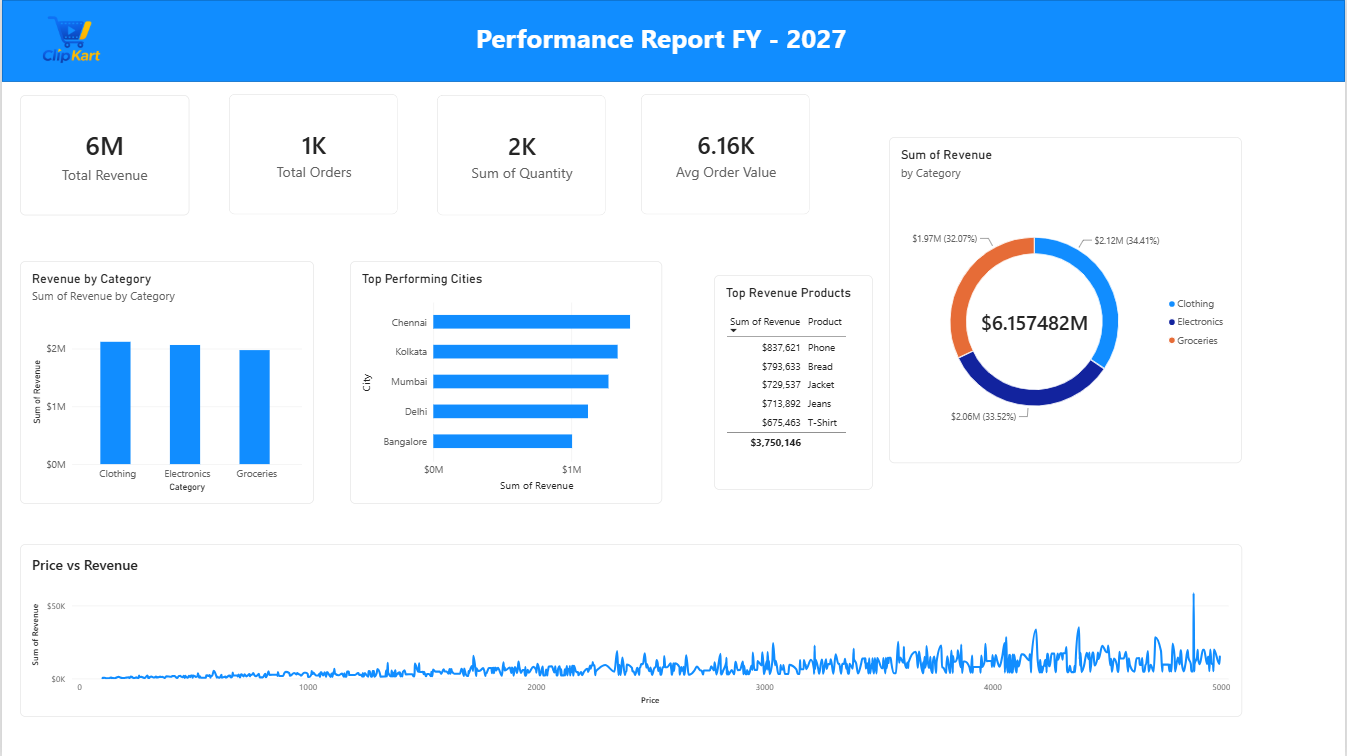

This screenshot's page, from the dashboard's own definition file:
{"tool":"powerbi","page":{"name":"Page 1","canvas":[1920,1080],"ordinal":0},"visuals":[{"type":"shape","box":[0,0,1920,116.7],"z":0},{"type":"image","box":[0,0,196.9,116.7],"z":1000},{"type":"textbox","box":[677.7,27.9,564.5,62.7],"z":2000},{"type":"card","fields":{"Values":["Sum(1780981841717-clipkart_ecommerce_data.Revenue)"]},"box":[26.3,135.5,242.1,172.4],"z":3000},{"type":"lineChart","title":"Price vs Revenue","fields":{"Category":["1780981841717-clipkart_ecommerce_data.Price"],"Y":["Sum(1780981841717-clipkart_ecommerce_data.Revenue)"]},"box":[25,776.7,1745.7,247.1],"z":4000},{"type":"columnChart","title":"Revenue by Category","fields":{"Category":["1780981841717-clipkart_ecommerce_data.Category"],"Y":["Sum(1780981841717-clipkart_ecommerce_data.Revenue)"]},"box":[25.7,372.9,420,347.1],"z":5000},{"type":"tableEx","title":"Top Revenue Products","fields":{"Values":["Sum(1780981841717-clipkart_ecommerce_data.Revenue)","1780981841717-clipkart_ecommerce_data.Product"]},"box":[1016.7,393.3,227.1,307.1],"z":6000},{"type":"cardVisual","fields":{"Data":["CountNonNull(1780981841717-clipkart_ecommerce_data.Revenue)"]},"box":[324.3,134.3,241.4,172.9],"z":7000},{"type":"cardVisual","fields":{"Data":["Sum(1780981841717-clipkart_ecommerce_data.Quantity)"]},"box":[621.4,135.7,241.4,172.9],"z":8000},{"type":"clusteredBarChart","title":"Top Performing Cities","fields":{"Category":["1780981841717-clipkart_ecommerce_data.City"],"Y":["Sum(1780981841717-clipkart_ecommerce_data.Revenue)"]},"box":[496.7,373.3,445.7,347.1],"z":9000},{"type":"cardVisual","fields":{"Data":["1780981841717-clipkart_ecommerce_data.Avg Order Value"]},"box":[912.9,134.3,241.4,172.9],"z":10000},{"type":"donutChart","fields":{"Category":["1780981841717-clipkart_ecommerce_data.Category"],"Y":["Sum(1780981841717-clipkart_ecommerce_data.Revenue)"]},"box":[1267.1,195.7,504.3,465.7],"z":11000}]}

Visuals, with their boxes in screenshot pixels (x1, y1, x2, y2), scaled from the page's 1920x1080 canvas onto the 1347x756 screenshot:
shape: BBox(0, 0, 1346, 82)
image: BBox(0, 0, 138, 82)
textbox: BBox(475, 20, 871, 63)
card - Sum(1780981841717-clipkart_ecommerce_data.Revenue): BBox(18, 95, 188, 216)
"Price vs Revenue" lineChart: BBox(18, 544, 1242, 717)
"Revenue by Category" columnChart: BBox(18, 261, 313, 504)
"Top Revenue Products" tableEx: BBox(713, 275, 873, 490)
cardVisual - CountNonNull(1780981841717-clipkart_ecommerce_data.Revenue): BBox(228, 94, 397, 215)
cardVisual - Sum(1780981841717-clipkart_ecommerce_data.Quantity): BBox(436, 95, 605, 216)
"Top Performing Cities" clusteredBarChart: BBox(348, 261, 661, 504)
cardVisual - 1780981841717-clipkart_ecommerce_data.Avg Order Value: BBox(640, 94, 810, 215)
donutChart - 1780981841717-clipkart_ecommerce_data.Category x Sum(1780981841717-clipkart_ecommerce_data.Revenue): BBox(889, 137, 1243, 463)
